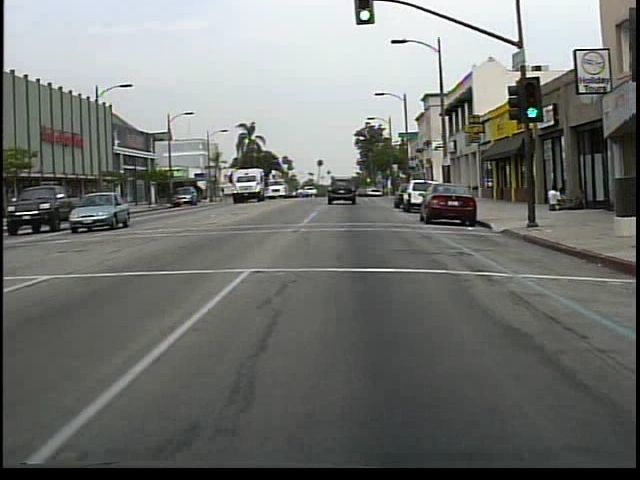person: (543, 184, 560, 214)
